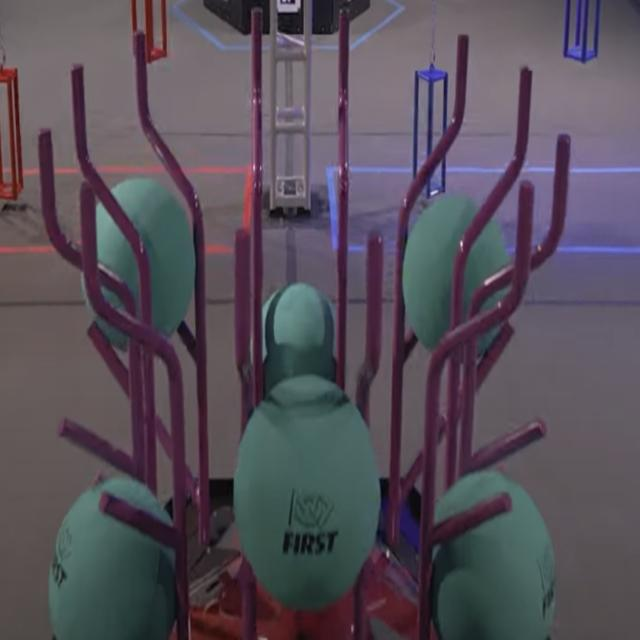Algae: (233, 376, 379, 609), (430, 469, 556, 638), (47, 481, 176, 639), (82, 179, 196, 353), (402, 193, 512, 351), (256, 282, 336, 385)
Reef: (89, 322, 150, 423), (57, 417, 143, 487), (100, 494, 178, 554), (430, 492, 511, 546), (399, 417, 447, 502), (468, 417, 548, 467), (157, 417, 200, 502), (508, 182, 534, 316), (364, 230, 385, 380), (233, 226, 253, 375), (80, 182, 99, 329), (38, 130, 59, 251), (476, 324, 515, 388), (550, 135, 570, 243), (71, 64, 90, 169), (513, 66, 532, 166), (134, 31, 151, 136), (454, 34, 469, 129), (338, 8, 349, 112), (251, 8, 262, 102), (178, 320, 198, 360), (238, 560, 256, 590)
